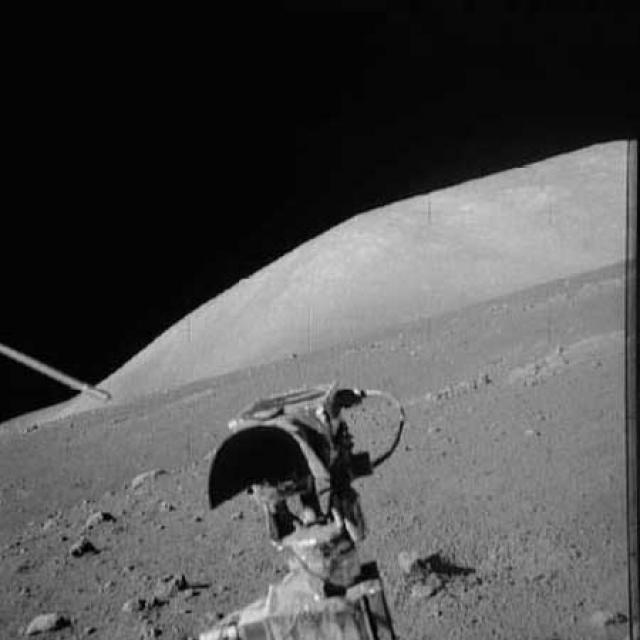artifact: (188, 371, 422, 639), (0, 336, 115, 416)
rock: (386, 541, 452, 602), (113, 565, 183, 614), (28, 599, 76, 637), (124, 456, 172, 489), (66, 534, 104, 565), (80, 507, 114, 530)
